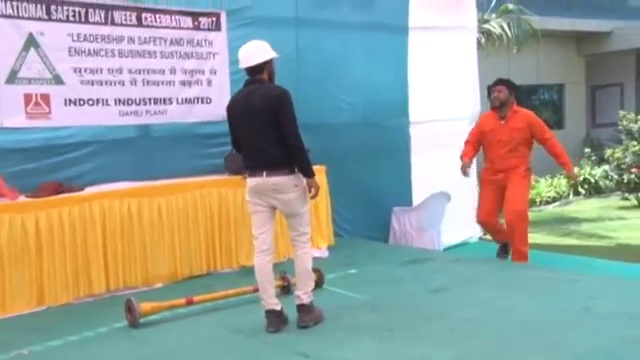helmet: (236, 38, 283, 69)
helmet_off: (487, 78, 518, 111)
helmet_on: (234, 38, 285, 86)
person: (221, 38, 326, 333), (460, 77, 574, 265)
